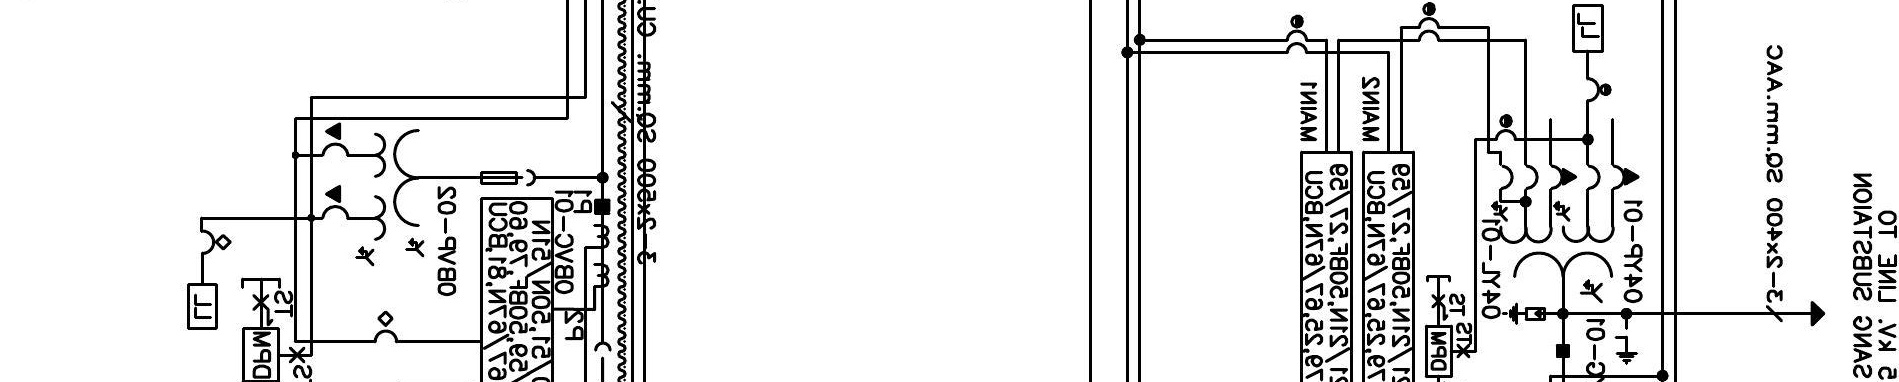115_gs: (1613, 326, 1640, 366)
115_la: (1501, 302, 1547, 326)
115_vt_3p: (1491, 164, 1641, 304)
22_vt_3p: (320, 121, 537, 267)
DPM: (1424, 325, 1453, 378)
LL: (1572, 4, 1605, 55), (187, 283, 219, 331)
